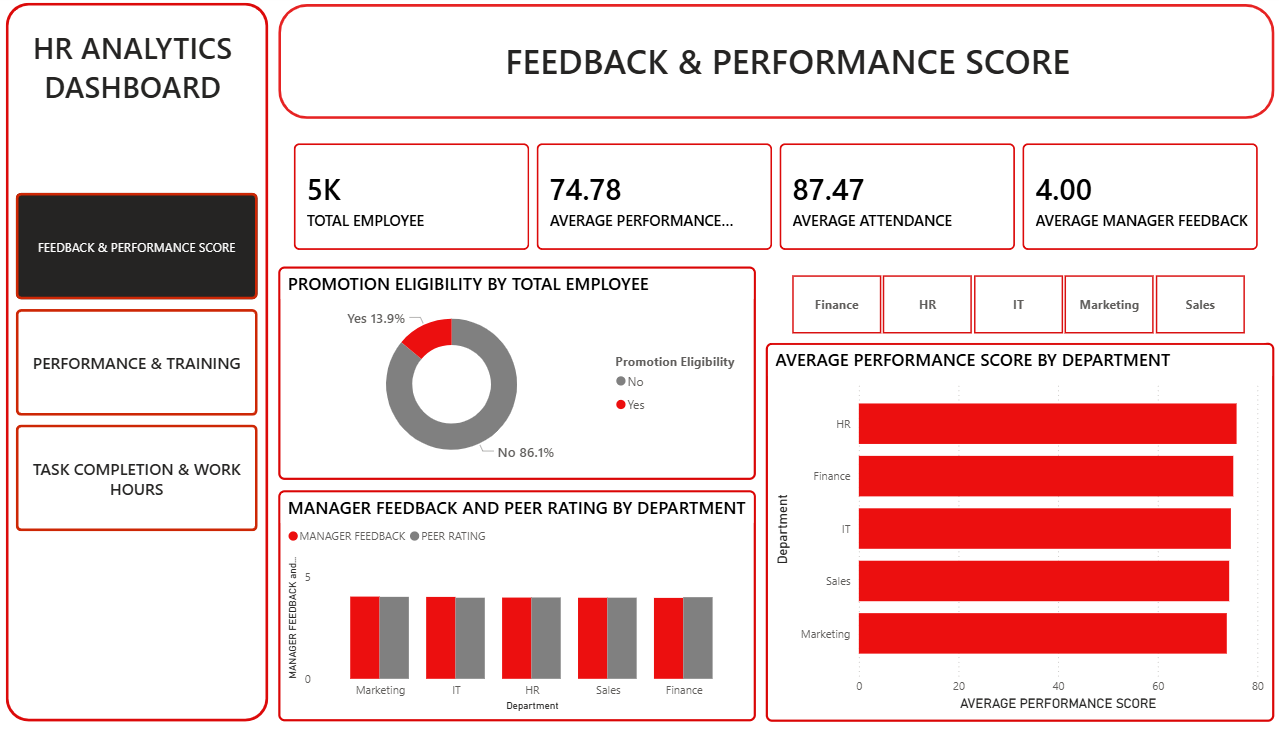

The dashboard page shown, as its layout file describes it:
{"tool":"powerbi","page":{"name":"FEEDBACK & PERFORMANCE SCORE","canvas":[1400,800],"ordinal":0},"visuals":[{"type":"shape","box":[9.5,4.1,285.3,781.3],"z":0},{"type":"cardVisual","fields":{"Data":["Employee_Performance_Dataset.TOTAL EMPLOYEE","Employee_Performance_Dataset.AVERAGE PERFORMANCE SCORE","Employee_Performance_Dataset.ATTENDANCE","Employee_Performance_Dataset.AVERAGE MANAGER FEEDBACK"]},"box":[305.7,139.9,1082.9,150.8],"z":1000},{"type":"barChart","title":"AVERAGE PERFORMANCE SCORE BY DEPARTMENT","fields":{"Category":["Employee_Performance_Dataset.Department"],"Y":["Employee_Performance_Dataset.AVERAGE PERFORMANCE SCORE"]},"box":[835.6,373.6,553,411.7],"z":2000},{"type":"donutChart","title":"PROMOTION ELIGIBILITY BY TOTAL EMPLOYEE","fields":{"Category":["Employee_Performance_Dataset.Promotion Eligibility"],"Y":["Employee_Performance_Dataset.TOTAL EMPLOYEE"]},"box":[305.7,290.8,519,232.3],"z":3000},{"type":"lineClusteredColumnComboChart","title":"MANAGER FEEDBACK AND PEER RATING BY DEPARTMENT","fields":{"Category":["Employee_Performance_Dataset.Department"],"Y":["Employee_Performance_Dataset.AVERAGE MANAGER FEEDBACK","Employee_Performance_Dataset.AVERAGE PEER RATING"]},"box":[305.7,534,519,251.4],"z":4000},{"type":"textbox","box":[20.4,25.8,254.1,114.1],"z":5000},{"type":"slicer","fields":{"Values":["Employee_Performance_Dataset.Department"]},"box":[835.6,290.8,547.6,82.9],"z":6000},{"type":"pageNavigator","box":[20.4,210.6,263.6,369.6],"z":7000},{"type":"shape","box":[305.7,5.4,1082.9,125],"z":8000},{"type":"textbox","box":[513.6,36.7,691.6,81.5],"z":9000}]}

Visuals, with their boxes in screenshot pixels (x1, y1, x2, y2), scaled from the page's 1400x800 canvas onto the 1279x734 screenshot:
shape: 9 4 269 721
cardVisual - Employee_Performance_Dataset.TOTAL EMPLOYEE x Employee_Performance_Dataset.AVERAGE PERFORMANCE SCORE: 279 128 1269 267
"AVERAGE PERFORMANCE SCORE BY DEPARTMENT" barChart: 763 343 1269 721
"PROMOTION ELIGIBILITY BY TOTAL EMPLOYEE" donutChart: 279 267 753 480
"MANAGER FEEDBACK AND PEER RATING BY DEPARTMENT" lineClusteredColumnComboChart: 279 490 753 721
textbox: 19 24 251 128
slicer - Employee_Performance_Dataset.Department: 763 267 1264 343
pageNavigator: 19 193 259 532
shape: 279 5 1269 120
textbox: 469 34 1101 108
